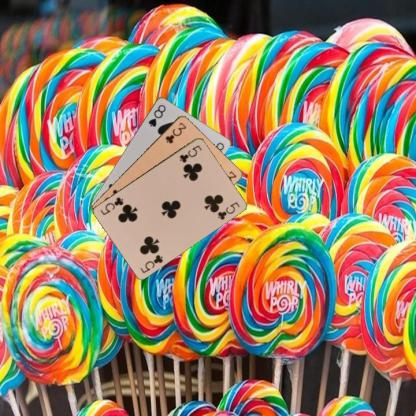3c: (162, 119, 188, 144)
5c: (177, 142, 203, 164), (138, 252, 164, 274)
8s: (146, 102, 167, 128)
